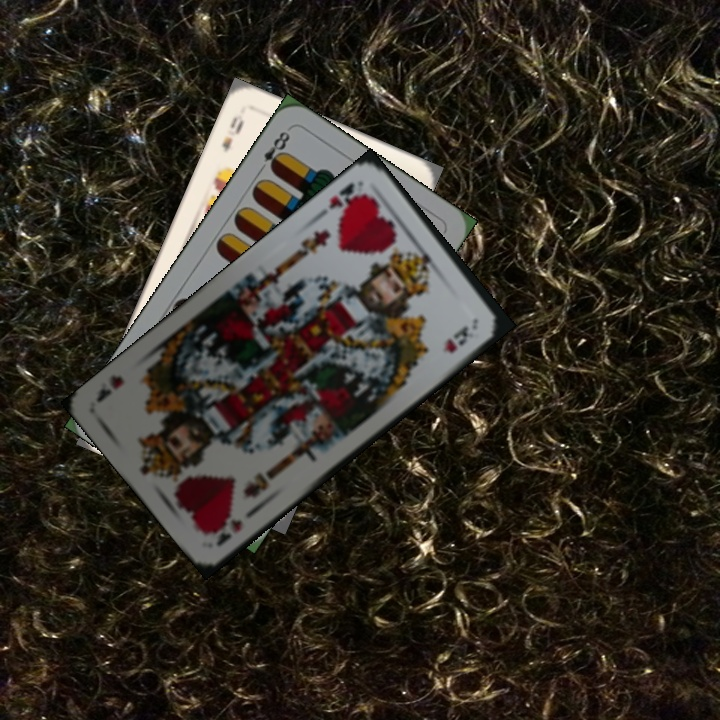E8: (254, 127, 293, 176)
E9: (218, 112, 247, 155)
HK: (316, 178, 368, 220), (209, 508, 259, 549)
